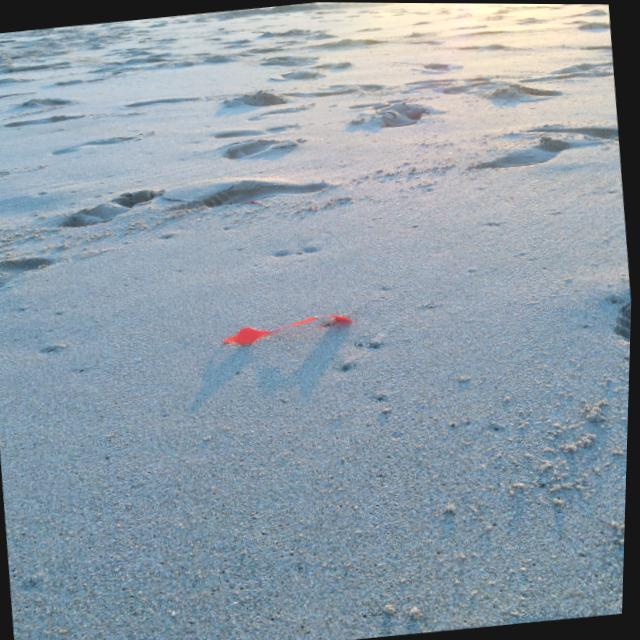Plastic: (217, 294, 361, 355)
